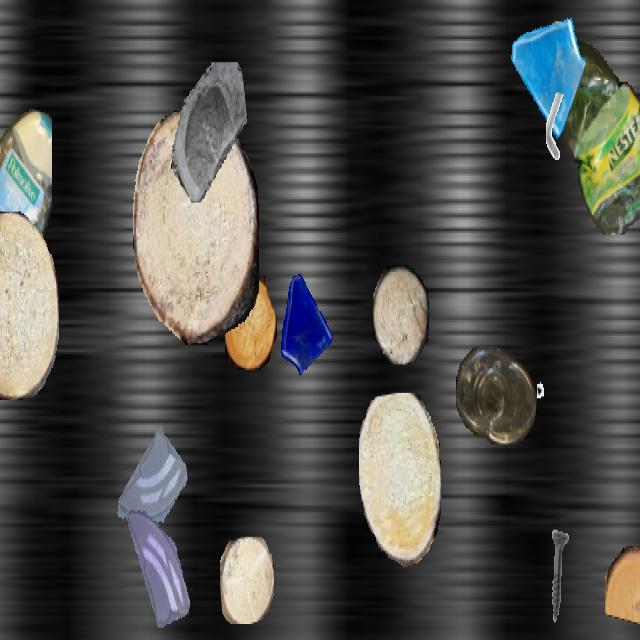glass: (169, 62, 247, 201), (507, 2, 585, 140), (120, 507, 194, 638), (115, 423, 187, 551), (275, 269, 335, 375)
metal: (530, 528, 586, 628), (536, 92, 576, 164), (537, 366, 575, 434)
plastic: (532, 21, 640, 235), (0, 102, 51, 340), (456, 347, 536, 442)
wood: (133, 109, 259, 343), (359, 393, 441, 567), (0, 212, 58, 400), (373, 265, 429, 364), (224, 276, 276, 368), (220, 537, 274, 622), (605, 546, 640, 624)
